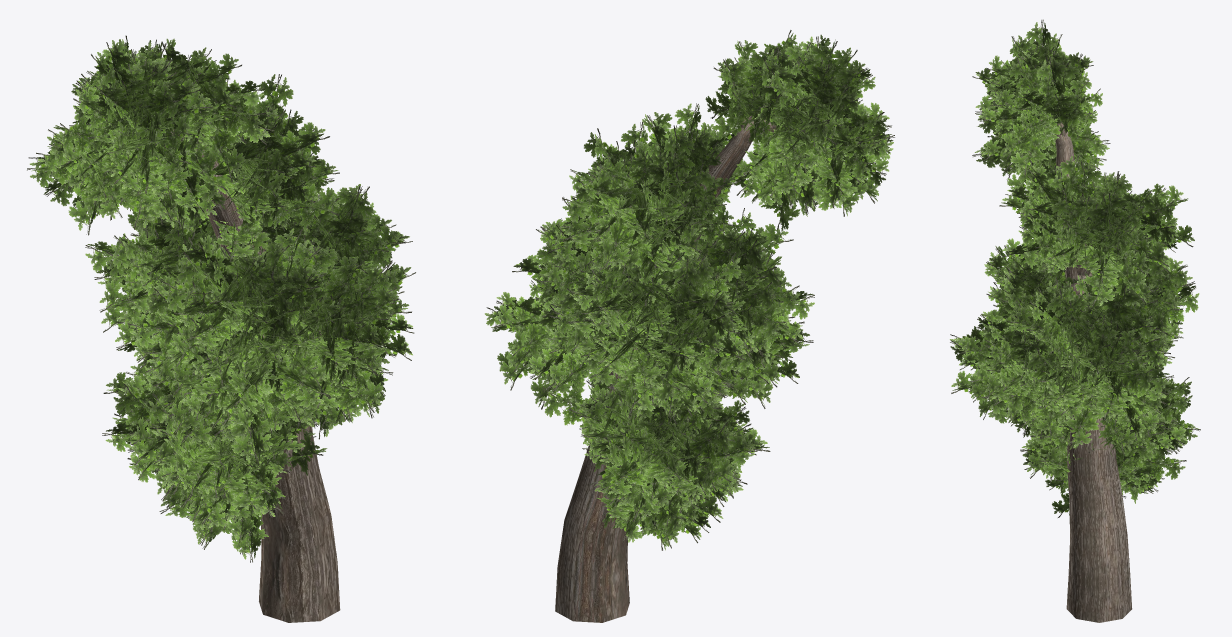
File: eztree-silver-maple-damp-a.glb
3 renders of one model, left to right at view 1: azimuth 30°, elevation 25°; view 2: azimuth 150°, elevation 25°; view 3: azimuth 270°, elevation 25°, orthographic. The views are drawn at different scales.
Visible parts, largest first — view 1: eztree-silver-maple-damp-a; view 2: eztree-silver-maple-damp-a; view 3: eztree-silver-maple-damp-a.
Boxes of the visible parts, <box> form: eztree-silver-maple-damp-a: <box>27,35,415,622</box>; eztree-silver-maple-damp-a: <box>484,30,894,622</box>; eztree-silver-maple-damp-a: <box>949,19,1200,622</box>.
Bounding box in the file's own units: 33 × 49.67 × 24.8.
2 materials, 2 textured.
